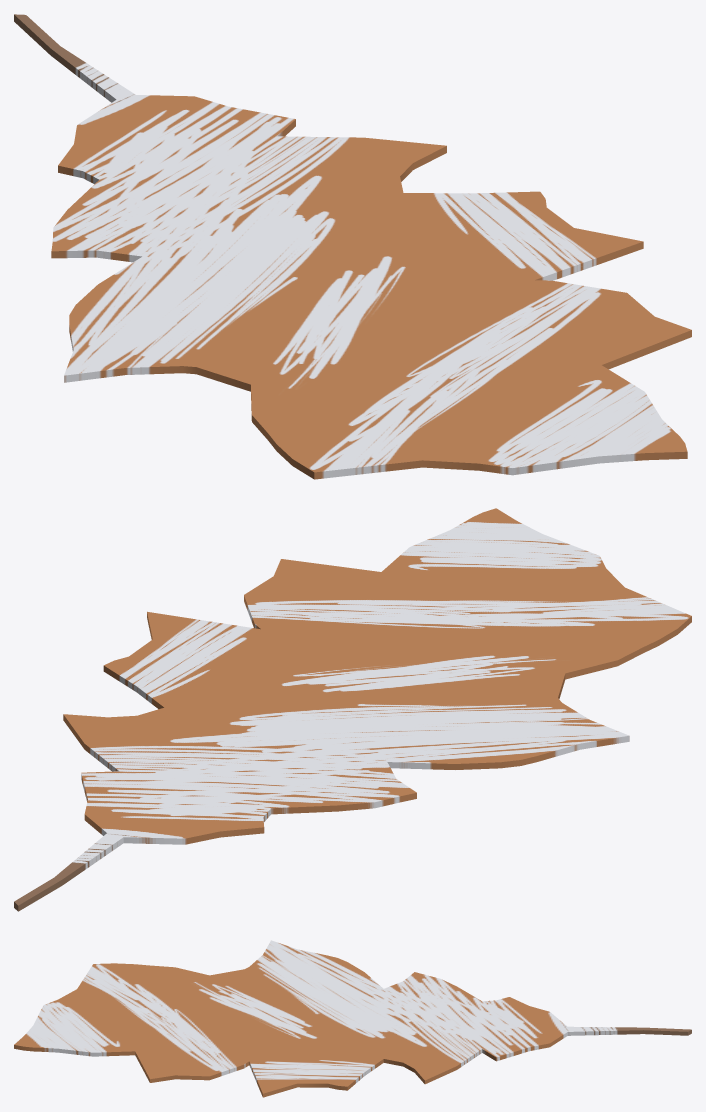
The model's file is pointy leaf level 1.fbx.
3 renders of one model, top to bottom at view 1: azimuth 30°, elevation 25°; view 2: azimuth 150°, elevation 25°; view 3: azimuth 270°, elevation 25°, orthographic. The views are drawn at different scales.
Visible parts, largest first — view 1: Pointy Leaf; view 2: Pointy Leaf; view 3: Pointy Leaf.
Part boxes in pixels (x1,y1,x2,y2): Pointy Leaf: (14,14,691,479); Pointy Leaf: (14,508,691,911); Pointy Leaf: (14,940,691,1097).
Bounding box in the file's own units: 18.3 × 0.2186 × 34.15.
Materials: 1 (1 with a texture image).
